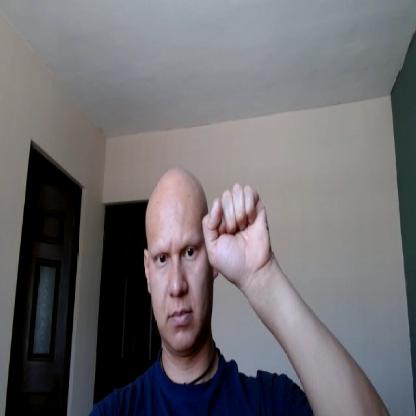S: (201, 182, 272, 282)
